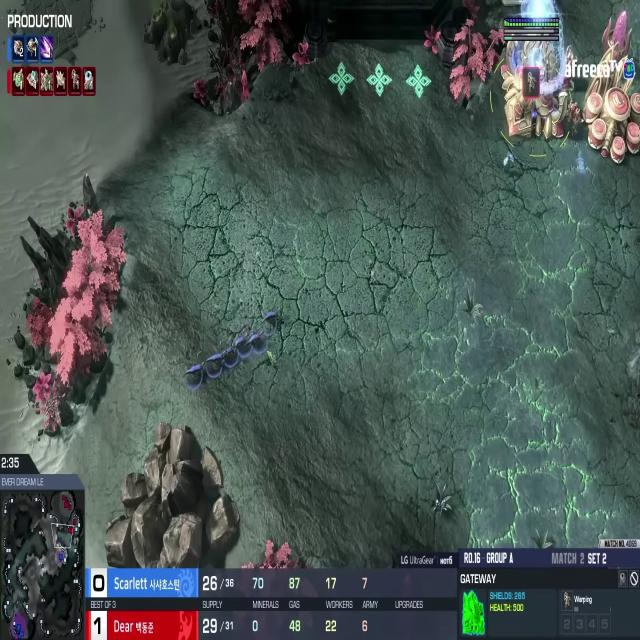adept: (560, 42, 580, 87)
zealot: (567, 94, 583, 146)
zergling: (184, 353, 207, 389), (259, 300, 284, 333), (204, 339, 225, 376), (245, 323, 265, 357), (221, 339, 237, 373), (231, 330, 249, 358)
